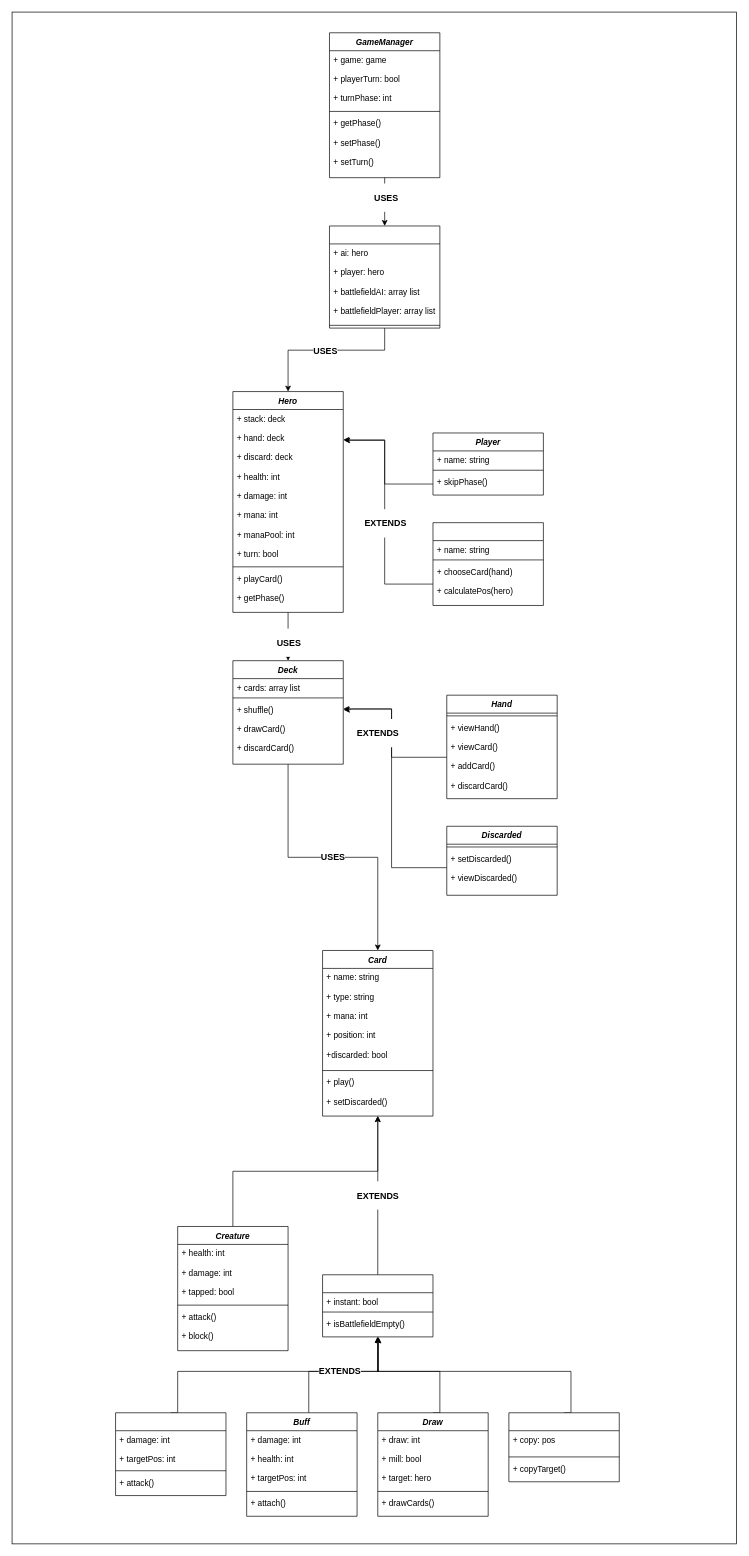
The diagram is 749 pixels wide and 1556 high, and some of its shapes have lost their labels. The box of each missing label's shape, as (x1, y1, x2, y2) in pixels:
Computer: (432, 522, 543, 605)
CopyPaste: (508, 1412, 619, 1482)
Game: (329, 225, 440, 328)
InstantDamage: (115, 1412, 226, 1496)
Spell: (322, 1274, 433, 1337)
